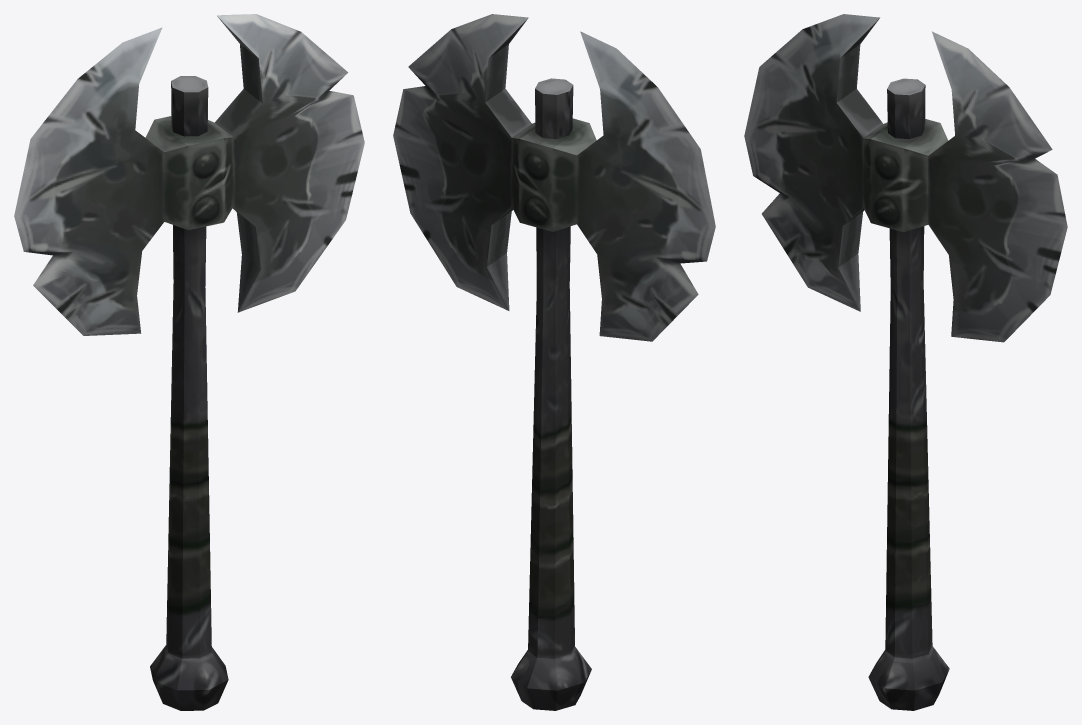
Rendered from W_axe_04.FBX.
The picture shows the model from 3 angles, left to right: view 1: azimuth 30°, elevation 25°; view 2: azimuth 150°, elevation 25°; view 3: azimuth 330°, elevation 25°; orthographic projection.
Visible parts, largest first — view 1: W_axe_04; view 2: W_axe_04; view 3: W_axe_04.
Boxes of the visible parts, box(x1,y1,x2,y2) form: W_axe_04: box(14, 14, 364, 710); W_axe_04: box(393, 14, 715, 710); W_axe_04: box(744, 14, 1067, 710).
Bounding box in the file's own units: 2.31 × 4.43 × 0.5198.
